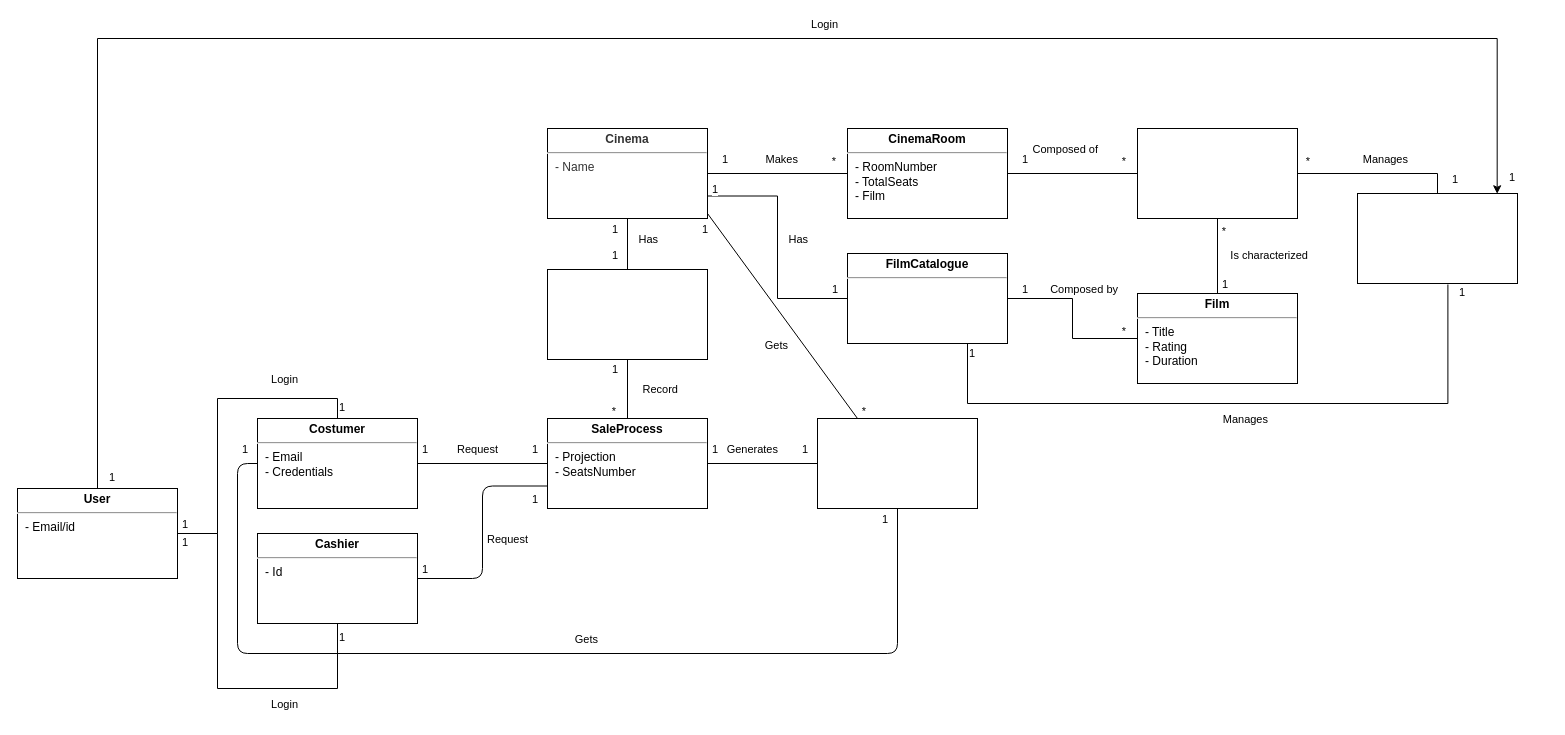
This 1565x735 diagram has some shape labels left out. Here are the shapes that lost their labels. From the top down, the centre of each, then its label:
At [1217,173]: "Projection - DateTime - Seats".
At [1437,238]: "Admin".
At [627,314]: "Register".
At [897,463]: "Item - Ticket - Food".
